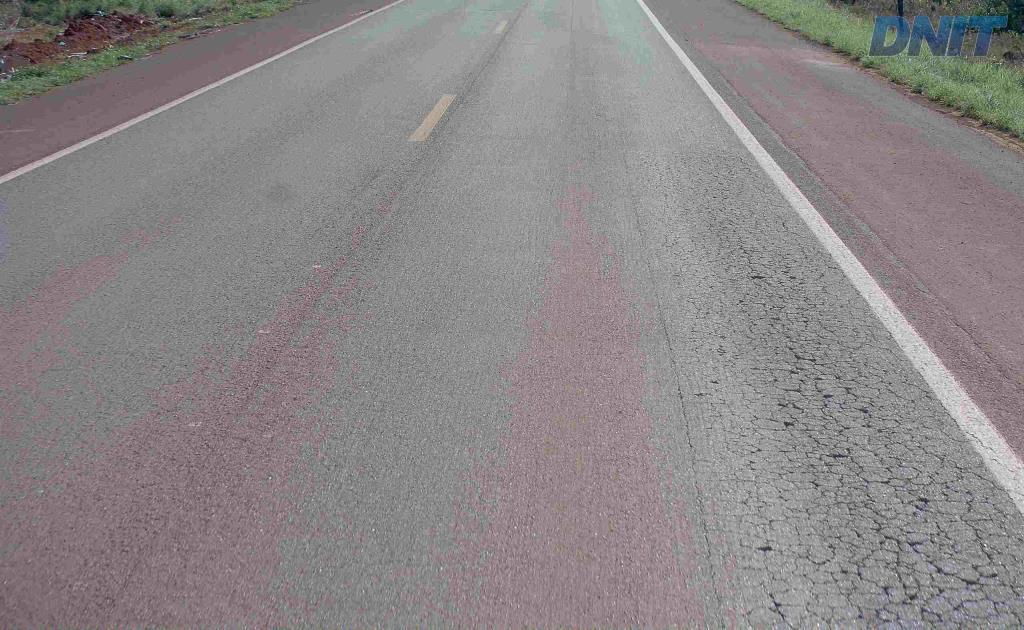crack: (814, 447, 955, 513), (866, 516, 959, 615)
